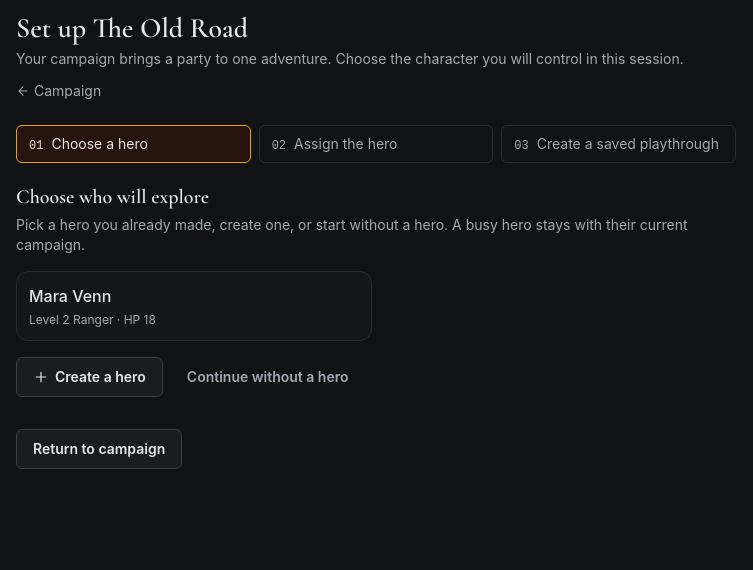
explains an assignment conflict and leaves the hero in its current campaign
The image size is (753, 570).
Click the button "Mara Venn Level 2 Ranger · HP 18" at (70, 296), box x1=16 y1=271 x2=372 y2=341
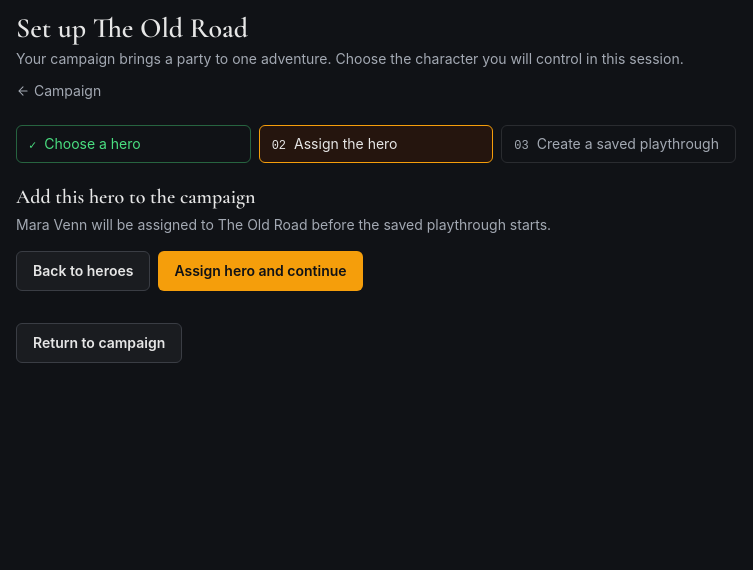
Click the button "Assign hero and continue" at (261, 271), box x1=158 y1=251 x2=363 y2=291
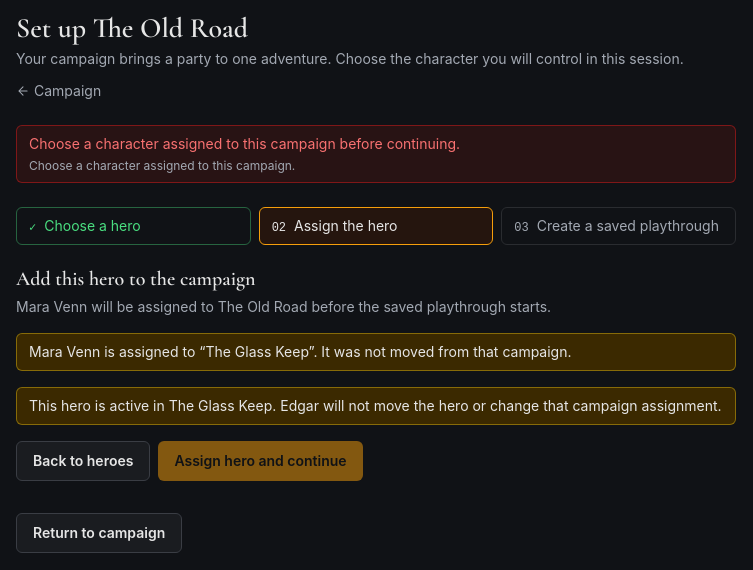
expect the text "The Glass Keep" is shown: met, box x1=29 y1=343 x2=572 y2=360
expect the text "It was not moved from that campaign." is shown: met, box x1=29 y1=343 x2=572 y2=360
